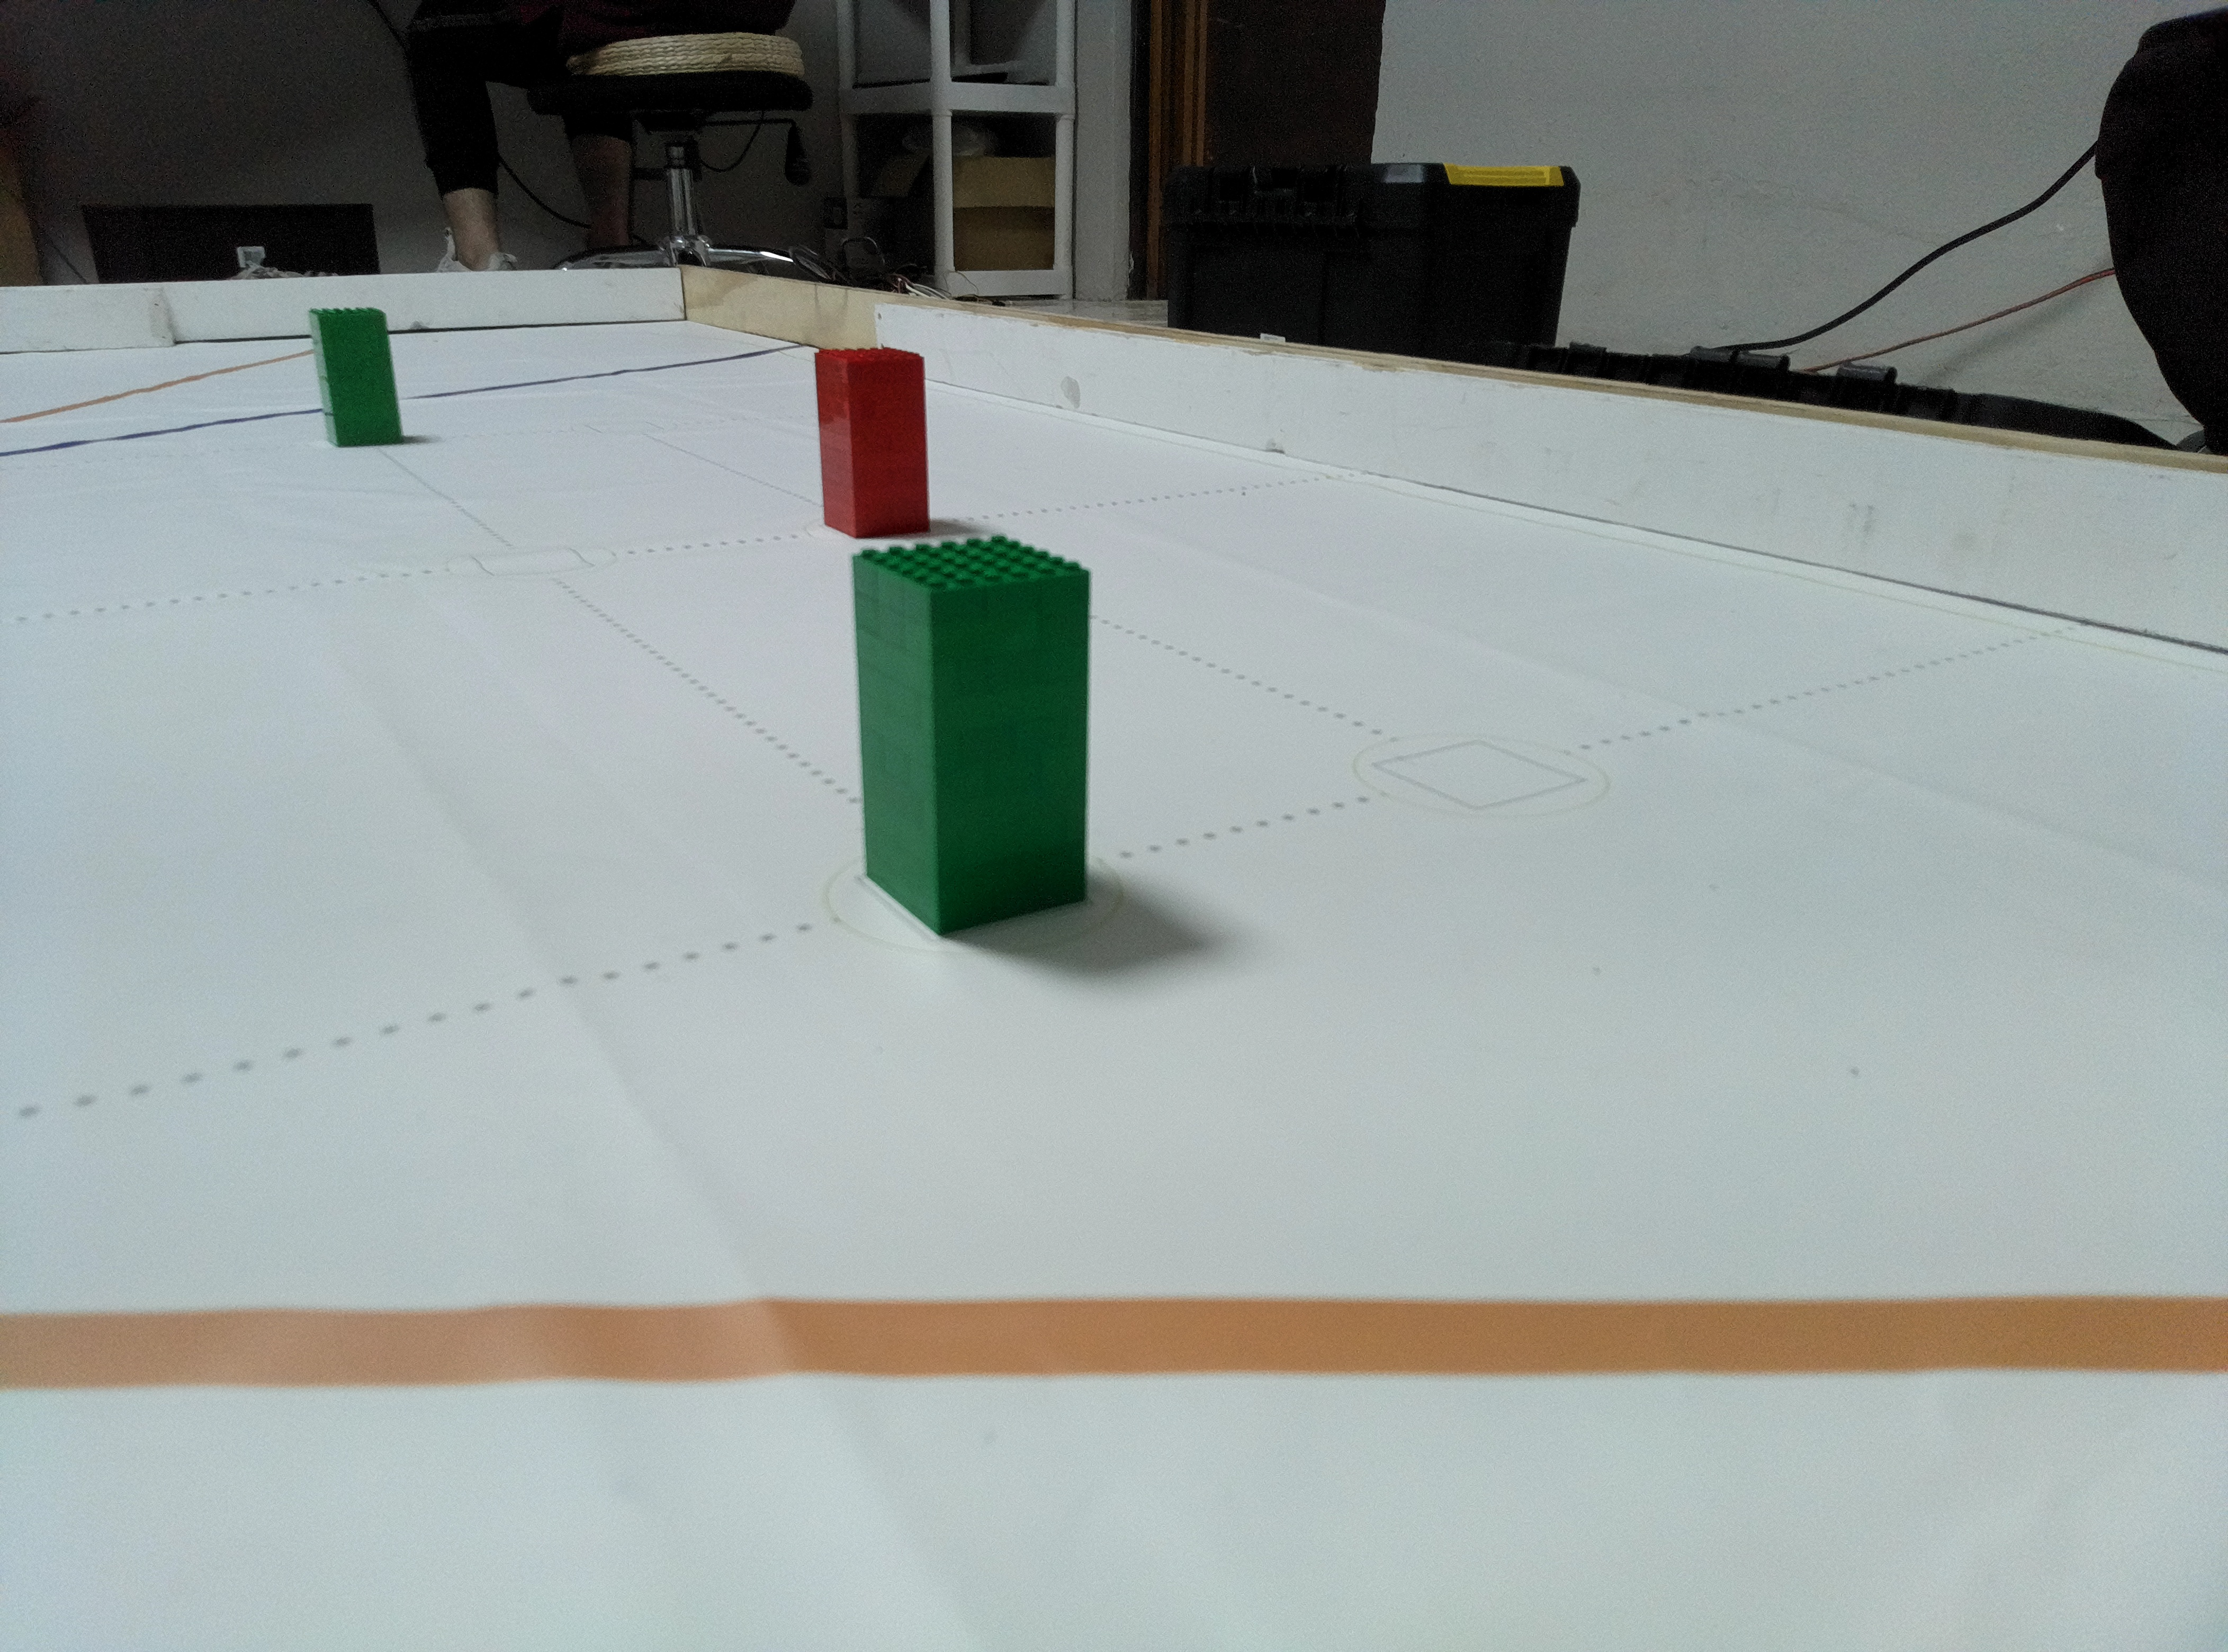greenbox: (850, 536, 1097, 930), (305, 305, 410, 444)
redbox: (810, 349, 934, 540)
